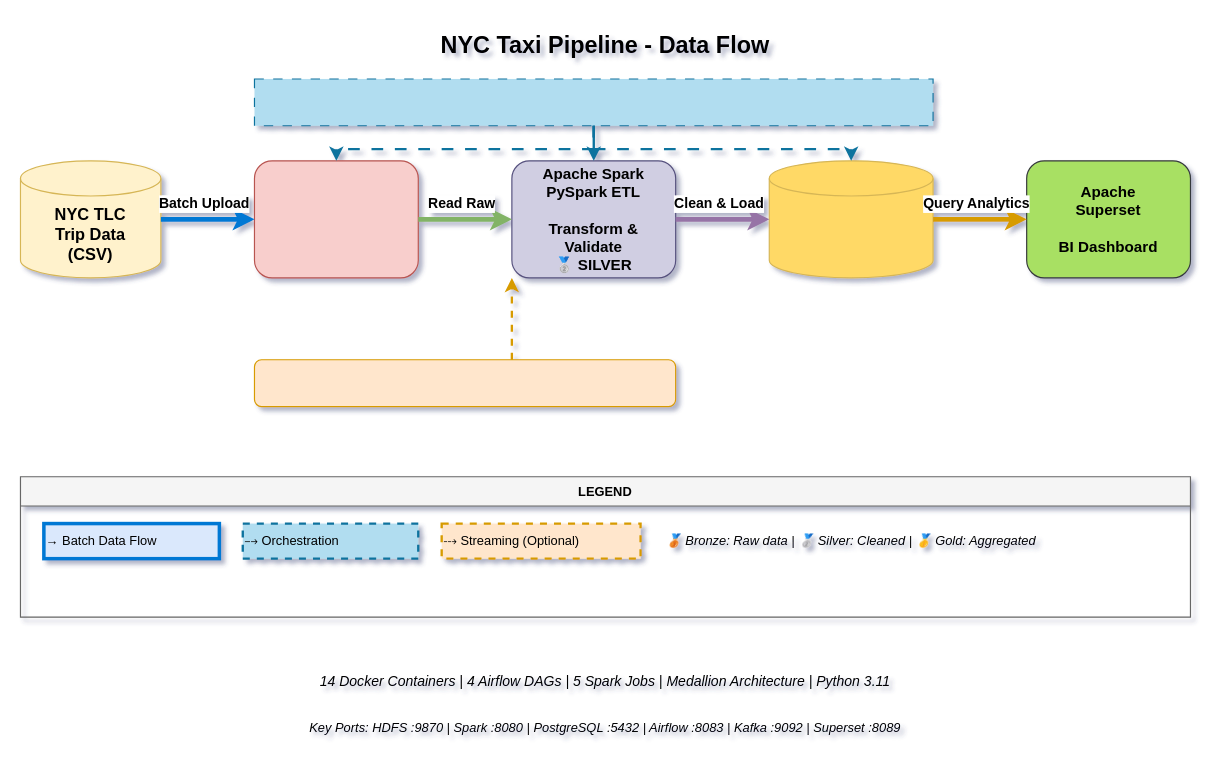
This 1218x772 diagram has some shape labels left out. Here are the shapes that lost their labels. From the top down, the centre of each, then its label:
At (x=593, y=102): "Apache Airflow Orchestration".
At (x=335, y=219): "HDFS Distributed Storage 🥉 BRONZE".
At (x=850, y=219): "PostgreSQL Data Warehouse 🥇 GOLD".
At (x=464, y=383): "Apache Kafka (Streaming - Optional)".
